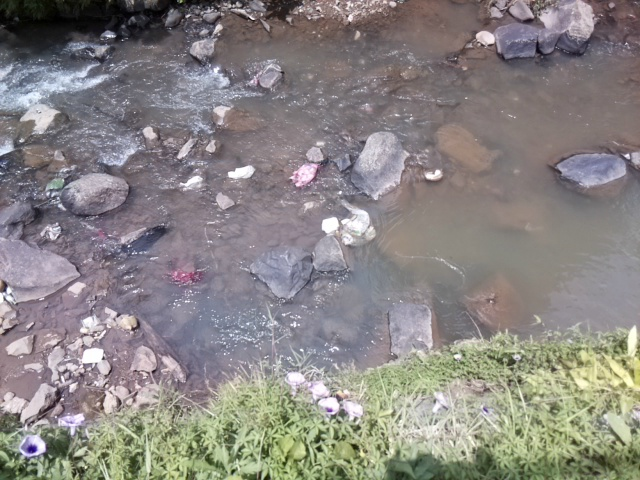Sampah_Plastik: (343, 205, 378, 244), (286, 164, 322, 186), (168, 267, 204, 285)
Sampah_Styrofoam: (81, 348, 106, 364), (228, 165, 257, 178), (321, 214, 339, 232)
